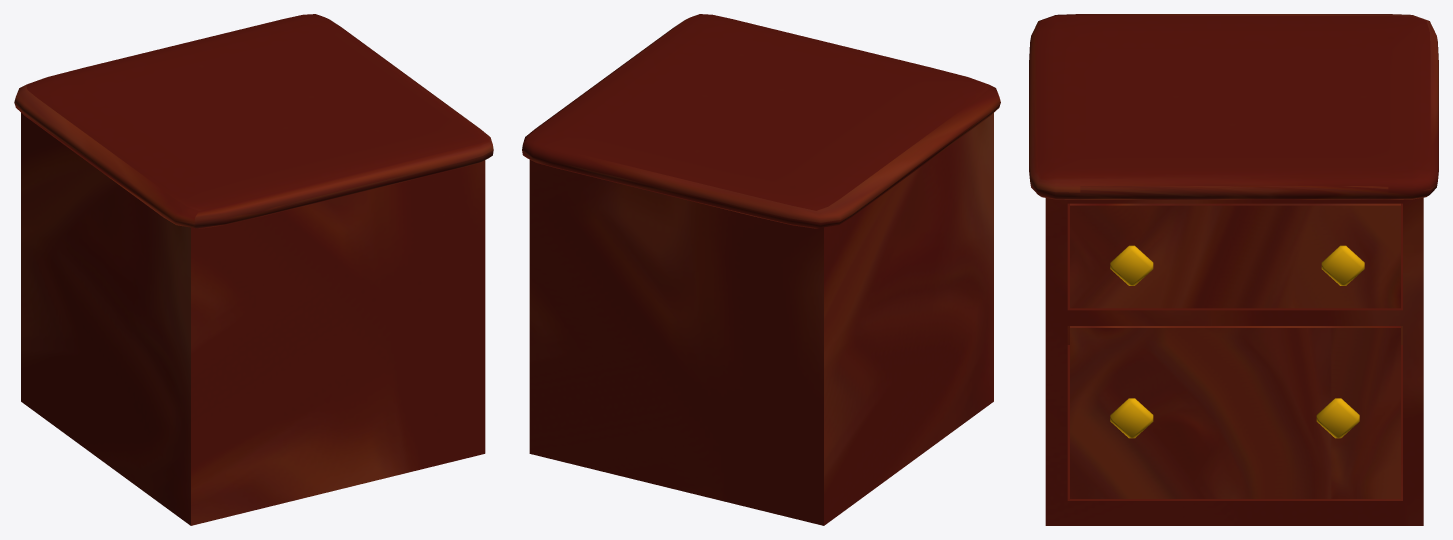
The model's file is comoda.glb.
3 renders of one model, left to right at view 1: azimuth 30°, elevation 25°; view 2: azimuth 150°, elevation 25°; view 3: azimuth 270°, elevation 25°, orthographic. The views are drawn at different scales.
Visible parts, largest first — view 1: Cube, Cube.005; view 2: Cube, Cube.005; view 3: Cube, Cube.005, Cube.003, Cube.001, Cube.002, Cube.004.
Boxes of the visible parts, left/top/right/bottom form: Cube: left=21, top=113, right=485, bottom=525; Cube.005: left=14, top=14, right=493, bottom=228; Cube: left=529, top=113, right=993, bottom=525; Cube.005: left=522, top=14, right=1000, bottom=228; Cube: left=1045, top=197, right=1423, bottom=525; Cube.005: left=1029, top=14, right=1438, bottom=199; Cube.003: left=1110, top=398, right=1153, bottom=438; Cube.001: left=1321, top=245, right=1364, bottom=285; Cube.002: left=1316, top=398, right=1359, bottom=438; Cube.004: left=1110, top=245, right=1153, bottom=285.
Bounding box in the file's own units: 1.34 × 1.24 × 1.3.
3 materials, 3 textured.
